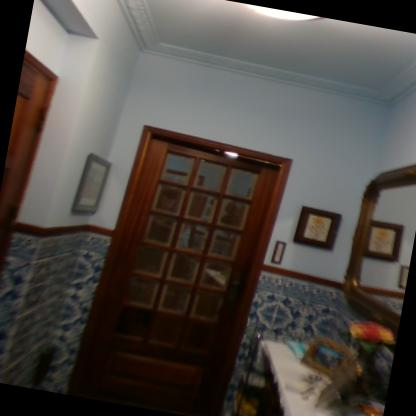closed: (72, 110, 292, 404)
